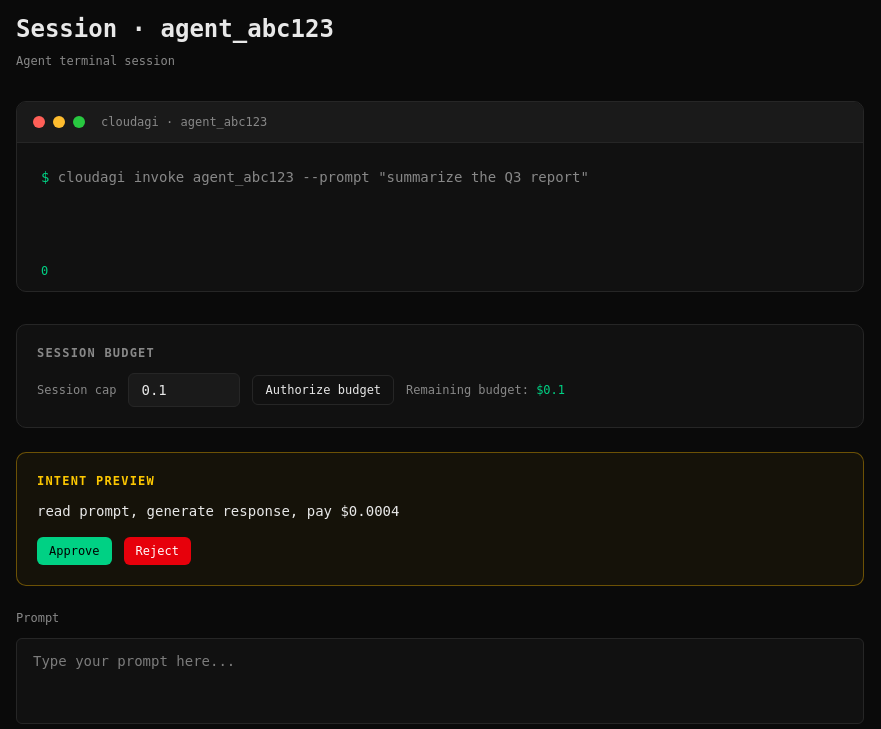
Test: SessionPage — intent approval (SPEC §3.2 stories 14–15) › dismisses the session and shows a 'Rejected' status after 'Reject' is clicked
Click the button "Reject".
click(157, 551)  # box [124, 537, 191, 565]
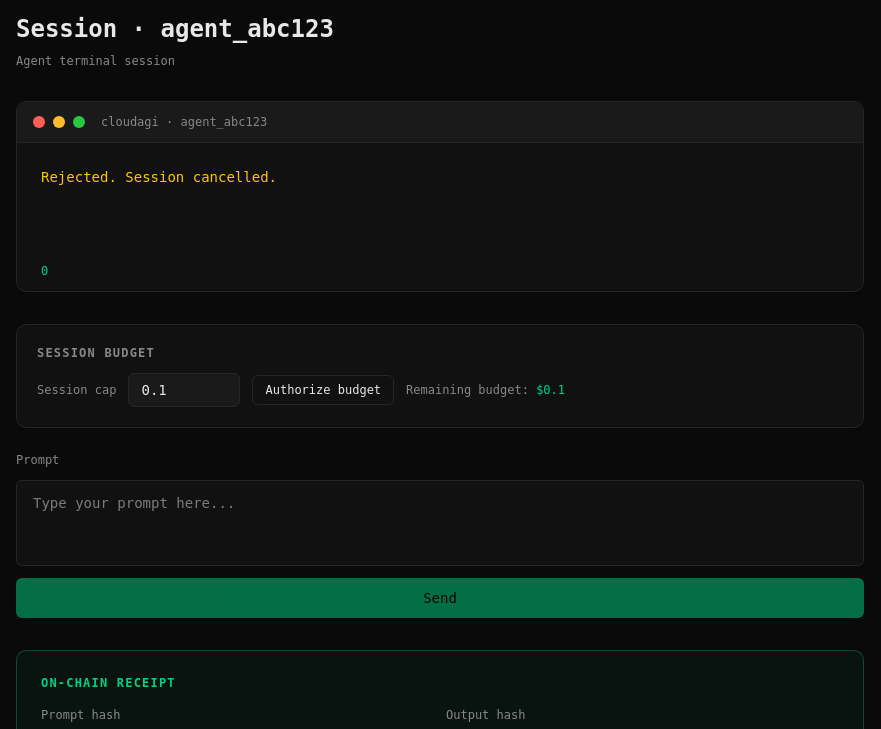
Check: the text "Rejected. Session cancelled." is shown, box [41, 169, 277, 185]
